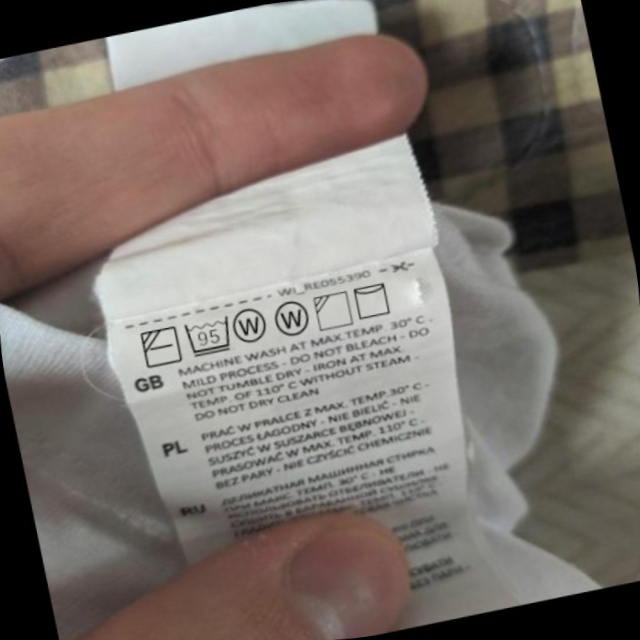95C: (179, 310, 238, 362)
dry_flat_in_shade: (135, 320, 186, 373)
line_dry: (348, 275, 397, 325)
shade_dry: (309, 286, 358, 336)
wet_clean: (269, 294, 316, 344), (228, 299, 274, 349)
